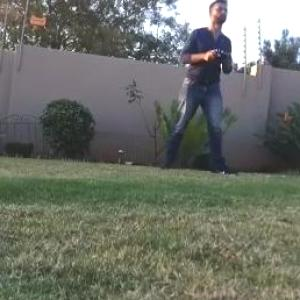follow: (160, 0, 246, 183)
